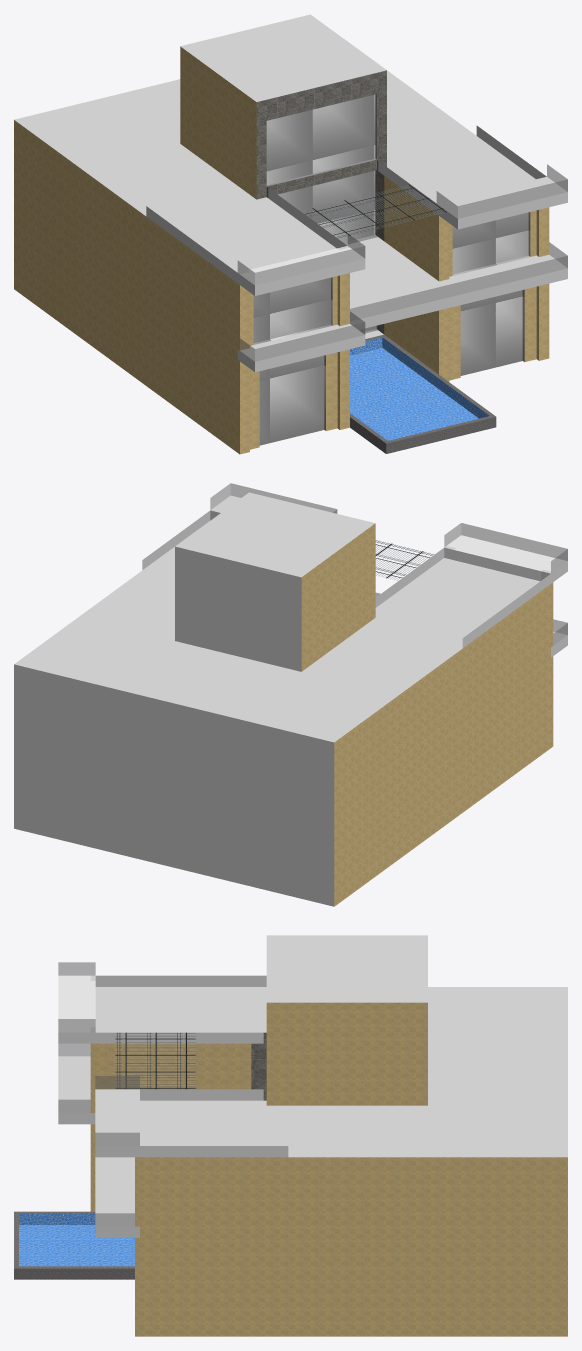
Rendered from villa3.glb.
The picture shows the model from 3 angles, top to bottom: view 1: azimuth 30°, elevation 25°; view 2: azimuth 150°, elevation 25°; view 3: azimuth 270°, elevation 25°; orthographic projection. The views are drawn at different scales.
Parts seen in each view (by area): view 1: _(Loose Entity); view 2: _(Loose Entity); view 3: _(Loose Entity).
Part boxes in pixels (<box>): _(Loose Entity): <box>14,14,567,454</box>; _(Loose Entity): <box>14,483,567,906</box>; _(Loose Entity): <box>14,935,567,1336</box>.
Size of the model in its own units: 16.32 by 12.6 by 22.42.
10 materials, 7 textured.
